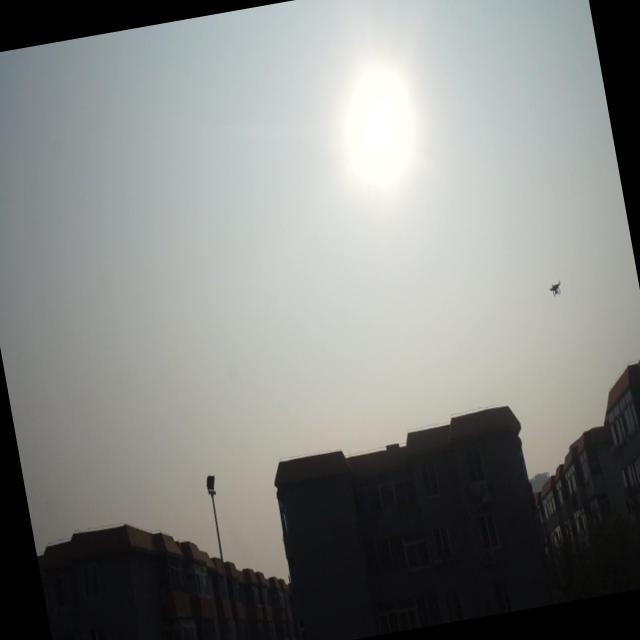drone: (547, 275, 562, 295)
